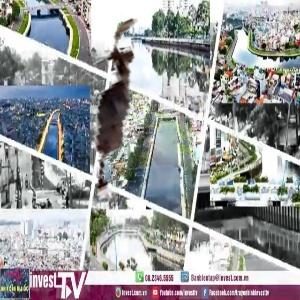drone: (11, 19, 217, 225)
